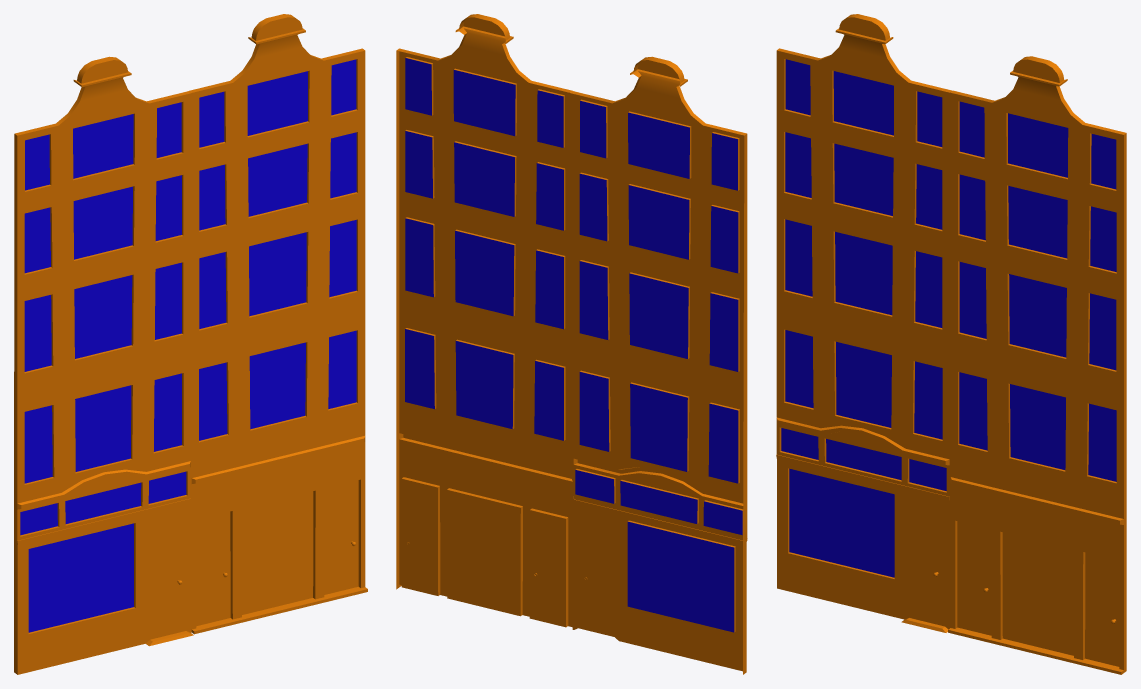
The model's file is huis 4 .fbx.
3 views of the same model, side by side, from view 1: azimuth 30°, elevation 25°; view 2: azimuth 150°, elevation 25°; view 3: azimuth 330°, elevation 25° (orthographic).
Parts seen in each view (by area): view 1: Plane; view 2: Plane; view 3: Plane.
Boxes of the visible parts, left/top/right/bottom form: Plane: left=14, top=14, right=367, bottom=674; Plane: left=396, top=14, right=747, bottom=674; Plane: left=776, top=14, right=1126, bottom=674.
Bounding box in the file's own units: 4.92 × 8 × 0.2196.
